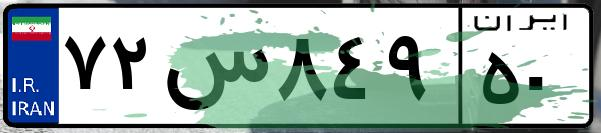0: (525, 38, 570, 115)
2: (110, 28, 158, 98)
4: (330, 28, 385, 110)
5: (475, 38, 525, 113)
7: (57, 26, 110, 100)
8: (270, 28, 330, 110)
9: (385, 28, 445, 110)
س: (158, 20, 270, 120)
